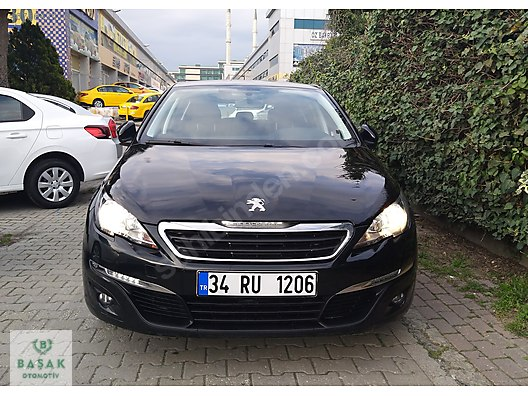peugeot: (79, 74, 423, 342)
